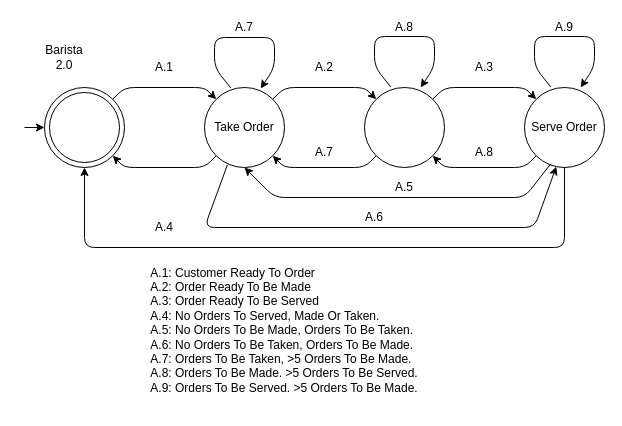
Image size: 622x426. Some labels were removed from this diagram. The centre of each missing label's shape, as x and y in pixels:
"Make Order" goes at pixel 404 127.
"Standby" goes at pixel 84 127.
